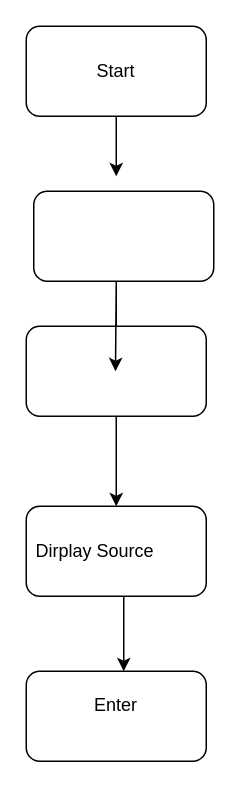
Some shapes in this 240 by 788 pixel diagram are drawn without their labels. Here are the shapes that lost their labels. From the top down, the centre of each, then its label:
[123,235]: User Interface
[115,370]: ADD
